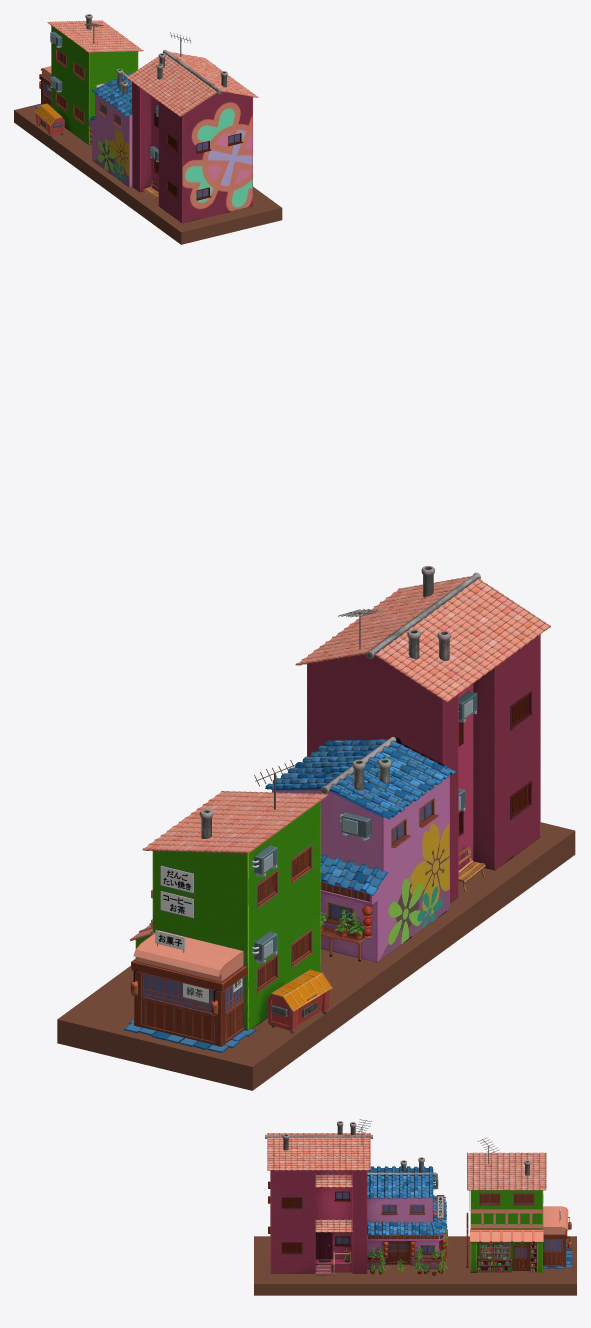
Rendered from leftBuildingsNew.glb.
3 renders of one model, top to bottom at view 1: azimuth 30°, elevation 25°; view 2: azimuth 150°, elevation 25°; view 3: azimuth 270°, elevation 25°, orthographic. The views are drawn at different scales.
Bounding box in the file's own units: 681 × 329 × 1018.
Materials: 6 (4 with a texture image).
